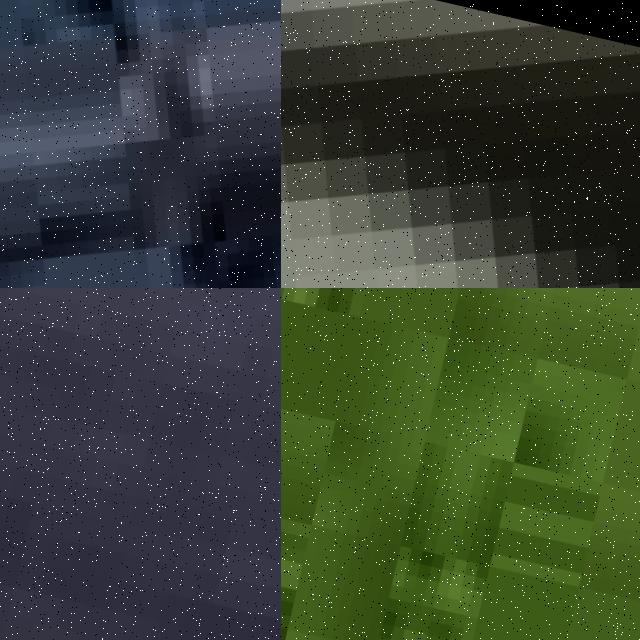0: (0, 0, 281, 288)
drone: (281, 0, 640, 288)
